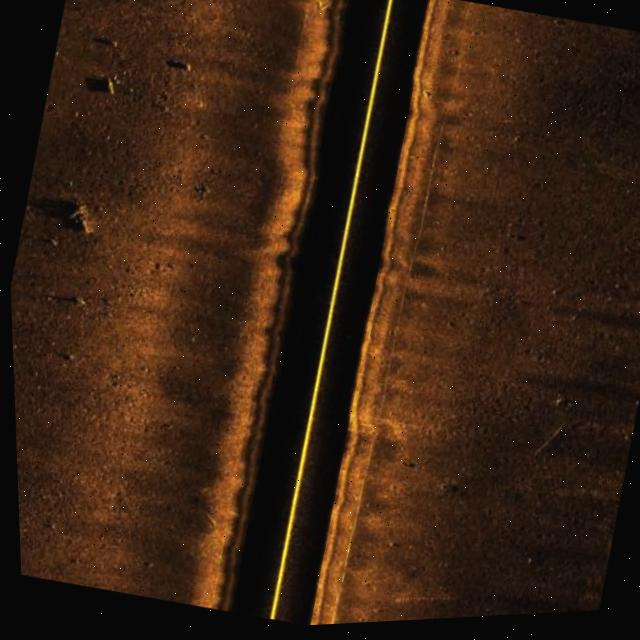mine: (76, 69, 119, 101), (86, 29, 124, 55), (163, 57, 198, 79), (69, 294, 86, 310)
other: (59, 196, 101, 248)
